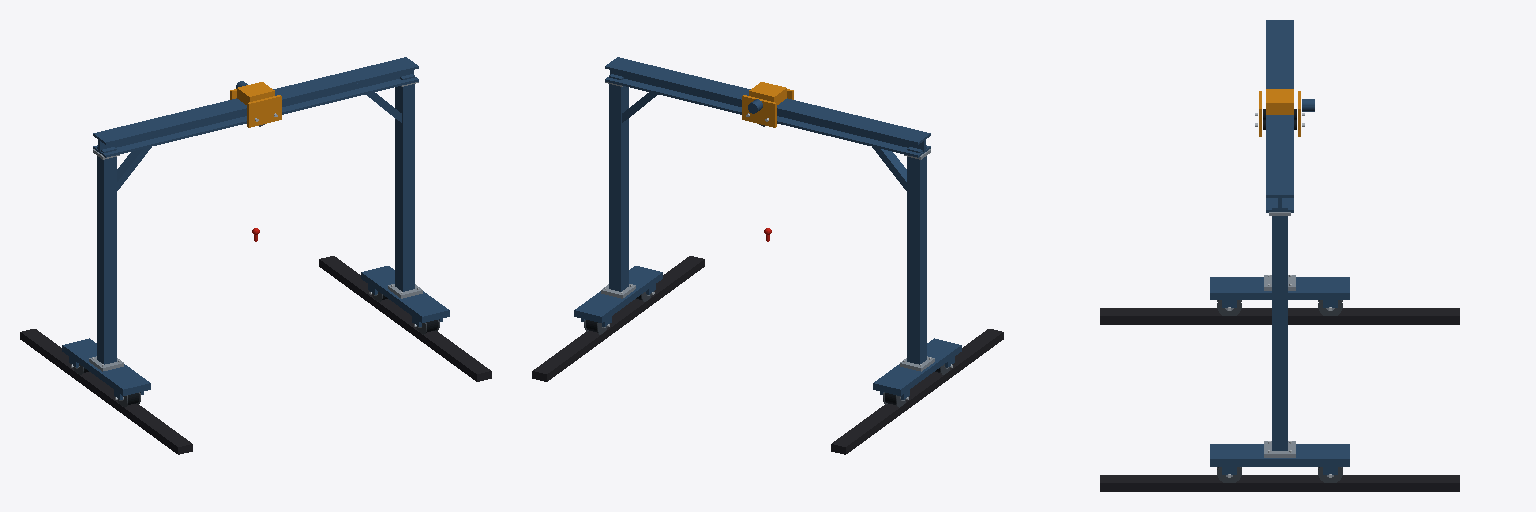
URDF robot description (gantry_crane):
<?xml version="1.0" ?>
<robot name="gantry_crane">
  <!-- Desktop gantry: load at table center [0.55, 0, 0].
       trolley_x=0, gantry_y=0 places the hook over the table origin.
       Girder / cable attachment is at z = 1.32 m.
       Rails extend to cover bogies throughout the gantry travel.
       Hoist prismatic along -Z so positive l lowers the hook. -->

  <material name="steel"><color rgba="0.56 0.60 0.64 1"/></material>
  <material name="wheel_tread"><color rgba="0.12 0.14 0.16 1"/></material>
  <material name="wheel_flange"><color rgba="0.30 0.33 0.36 1"/></material>
  <material name="bolt"><color rgba="0.72 0.75 0.78 1"/></material>

  <link name="base_link">
    <inertial>
      <origin xyz="0 0 0" rpy="0 0 0"/>
      <mass value="0"/>
      <inertia ixx="0.01" ixy="0" ixz="0" iyy="0.01" iyz="0" izz="0.01"/>
    </inertial>
    <visual>
      <origin xyz="-0.82 0 0.02" rpy="0 0 0"/>
      <geometry>
        <box size="0.08 1.50 0.04"/>
      </geometry>
      <material name="rail">
        <color rgba="0.18 0.18 0.20 1"/>
      </material>
    </visual>
    <visual>
      <origin xyz="0.82 0 0.02" rpy="0 0 0"/>
      <geometry>
        <box size="0.08 1.50 0.04"/>
      </geometry>
      <material name="rail">
        <color rgba="0.18 0.18 0.20 1"/>
      </material>
    </visual>
  </link>

  <link name="gantry_link">
    <inertial>
      <origin xyz="0 0 0.85" rpy="0 0 0"/>
      <mass value="8"/>
      <inertia ixx="2.4" ixy="0" ixz="0" iyy="3.1" iyz="0" izz="1.6"/>
    </inertial>
    <visual>
      <origin xyz="-0.82 0 0.7325" rpy="0 0 0"/>
      <geometry>
        <box size="0.07 0.07 1.135"/>
      </geometry>
      <material name="slate">
        <color rgba="0.22 0.34 0.46 1"/>
      </material>
    </visual>
    <collision>
      <origin xyz="-0.82 0 0.7325" rpy="0 0 0"/>
      <geometry>
        <box size="0.07 0.07 1.135"/>
      </geometry>
    </collision>
    <visual>
      <origin xyz="0.82 0 0.7325" rpy="0 0 0"/>
      <geometry>
        <box size="0.07 0.07 1.135"/>
      </geometry>
      <material name="slate">
        <color rgba="0.22 0.34 0.46 1"/>
      </material>
    </visual>
    <collision>
      <origin xyz="0.82 0 0.7325" rpy="0 0 0"/>
      <geometry>
        <box size="0.07 0.07 1.135"/>
      </geometry>
    </collision>
    <visual>
      <origin xyz="0 0 1.354" rpy="0 0 0"/>
      <geometry><box size="1.72 0.12 0.012"/></geometry>
      <material name="slate">
        <color rgba="0.22 0.34 0.46 1"/>
      </material>
    </visual>
    <visual>
      <origin xyz="0 0 1.286" rpy="0 0 0"/>
      <geometry><box size="1.72 0.12 0.012"/></geometry>
      <material name="slate">
        <color rgba="0.22 0.34 0.46 1"/>
      </material>
    </visual>
    <visual>
      <origin xyz="0 0 1.32" rpy="0 0 0"/>
      <geometry><box size="1.72 0.018 0.056"/></geometry>
      <material name="slate">
        <color rgba="0.22 0.34 0.46 1"/>
      </material>
    </visual>
    <collision>
      <origin xyz="0 0 1.32" rpy="0 0 0"/>
      <geometry>
        <box size="1.72 0.10 0.08"/>
      </geometry>
    </collision>
    <!-- Rail bogies: four wheels, axle direction X; tread touches rail at z=0.04.
         Wheel visuals follow gantry_y; rolling is represented by that prismatic joint. -->
    <visual>
      <origin xyz="-0.82 0 0.1475" rpy="0 0 0"/>
      <geometry><box size="0.15 0.58 0.035"/></geometry>
      <material name="slate">
        <color rgba="0.22 0.34 0.46 1"/>
      </material>
    </visual>
    <collision>
      <origin xyz="-0.82 0 0.1475" rpy="0 0 0"/>
      <geometry><box size="0.15 0.58 0.035"/></geometry>
    </collision>
    <visual>
      <origin xyz="-0.82 0 0.174" rpy="0 0 0"/>
      <geometry><box size="0.12 0.13 0.018"/></geometry>
      <material name="steel">
        <color rgba="0.56 0.60 0.64 1"/>
      </material>
    </visual>
    <visual>
      <origin xyz="-0.82 -0.21 0.085" rpy="0 1.57079632679 0"/>
      <geometry><cylinder radius="0.045" length="0.064"/></geometry>
      <material name="wheel_tread">
        <color rgba="0.12 0.14 0.16 1"/>
      </material>
    </visual>
    <collision>
      <origin xyz="-0.82 -0.21 0.085" rpy="0 1.57079632679 0"/>
      <geometry><cylinder radius="0.045" length="0.064"/></geometry>
    </collision>
    <visual>
      <origin xyz="-0.855 -0.21 0.085" rpy="0 1.57079632679 0"/>
      <geometry><cylinder radius="0.052" length="0.006"/></geometry>
      <material name="wheel_flange">
        <color rgba="0.30 0.33 0.36 1"/>
      </material>
    </visual>
    <visual>
      <origin xyz="-0.863 -0.21 0.085" rpy="0 1.57079632679 0"/>
      <geometry><cylinder radius="0.018" length="0.01"/></geometry>
      <material name="steel">
        <color rgba="0.56 0.60 0.64 1"/>
      </material>
    </visual>
    <visual>
      <origin xyz="-0.877 -0.21 0.117" rpy="0 0 0"/>
      <geometry><box size="0.015 0.066 0.058"/></geometry>
      <material name="slate">
        <color rgba="0.22 0.34 0.46 1"/>
      </material>
    </visual>
    <visual>
      <origin xyz="-0.888 -0.21 0.085" rpy="0 1.57079632679 0"/>
      <geometry><cylinder radius="0.008" length="0.008"/></geometry>
      <material name="bolt">
        <color rgba="0.72 0.75 0.78 1"/>
      </material>
    </visual>
    <visual>
      <origin xyz="-0.785 -0.21 0.085" rpy="0 1.57079632679 0"/>
      <geometry><cylinder radius="0.052" length="0.006"/></geometry>
      <material name="wheel_flange">
        <color rgba="0.30 0.33 0.36 1"/>
      </material>
    </visual>
    <visual>
      <origin xyz="-0.777 -0.21 0.085" rpy="0 1.57079632679 0"/>
      <geometry><cylinder radius="0.018" length="0.01"/></geometry>
      <material name="steel">
        <color rgba="0.56 0.60 0.64 1"/>
      </material>
    </visual>
    <visual>
      <origin xyz="-0.763 -0.21 0.117" rpy="0 0 0"/>
      <geometry><box size="0.015 0.066 0.058"/></geometry>
      <material name="slate">
        <color rgba="0.22 0.34 0.46 1"/>
      </material>
    </visual>
    <visual>
      <origin xyz="-0.752 -0.21 0.085" rpy="0 1.57079632679 0"/>
      <geometry><cylinder radius="0.008" length="0.008"/></geometry>
      <material name="bolt">
        <color rgba="0.72 0.75 0.78 1"/>
      </material>
    </visual>
    <visual>
      <origin xyz="-0.82 0.21 0.085" rpy="0 1.57079632679 0"/>
      <geometry><cylinder radius="0.045" length="0.064"/></geometry>
      <material name="wheel_tread">
        <color rgba="0.12 0.14 0.16 1"/>
      </material>
    </visual>
    <collision>
      <origin xyz="-0.82 0.21 0.085" rpy="0 1.57079632679 0"/>
      <geometry><cylinder radius="0.045" length="0.064"/></geometry>
    </collision>
    <visual>
      <origin xyz="-0.855 0.21 0.085" rpy="0 1.57079632679 0"/>
      <geometry><cylinder radius="0.052" length="0.006"/></geometry>
      <material name="wheel_flange">
        <color rgba="0.30 0.33 0.36 1"/>
      </material>
    </visual>
    <visual>
      <origin xyz="-0.863 0.21 0.085" rpy="0 1.57079632679 0"/>
      <geometry><cylinder radius="0.018" length="0.01"/></geometry>
      <material name="steel">
        <color rgba="0.56 0.60 0.64 1"/>
      </material>
    </visual>
    <visual>
      <origin xyz="-0.877 0.21 0.117" rpy="0 0 0"/>
      <geometry><box size="0.015 0.066 0.058"/></geometry>
      <material name="slate">
        <color rgba="0.22 0.34 0.46 1"/>
      </material>
    </visual>
    <visual>
      <origin xyz="-0.888 0.21 0.085" rpy="0 1.57079632679 0"/>
      <geometry><cylinder radius="0.008" length="0.008"/></geometry>
      <material name="bolt">
        <color rgba="0.72 0.75 0.78 1"/>
      </material>
    </visual>
    <visual>
      <origin xyz="-0.785 0.21 0.085" rpy="0 1.57079632679 0"/>
      <geometry><cylinder radius="0.052" length="0.006"/></geometry>
      <material name="wheel_flange">
        <color rgba="0.30 0.33 0.36 1"/>
      </material>
    </visual>
    <visual>
      <origin xyz="-0.777 0.21 0.085" rpy="0 1.57079632679 0"/>
      <geometry><cylinder radius="0.018" length="0.01"/></geometry>
      <material name="steel">
        <color rgba="0.56 0.60 0.64 1"/>
      </material>
    </visual>
    <visual>
      <origin xyz="-0.763 0.21 0.117" rpy="0 0 0"/>
      <geometry><box size="0.015 0.066 0.058"/></geometry>
      <material name="slate">
        <color rgba="0.22 0.34 0.46 1"/>
      </material>
    </visual>
    <visual>
      <origin xyz="-0.752 0.21 0.085" rpy="0 1.57079632679 0"/>
      <geometry><cylinder radius="0.008" length="0.008"/></geometry>
      <material name="bolt">
        <color rgba="0.72 0.75 0.78 1"/>
      </material>
    </visual>
    <visual>
      <origin xyz="-0.865 -0.045 0.186" rpy="0 0 0"/>
      <geometry><cylinder radius="0.006" length="0.006"/></geometry>
      <material name="bolt">
        <color rgba="0.72 0.75 0.78 1"/>
      </material>
    </visual>
    <visual>
      <origin xyz="-0.865 0.045 0.186" rpy="0 0 0"/>
      <geometry><cylinder radius="0.006" length="0.006"/></geometry>
      <material name="bolt">
        <color rgba="0.72 0.75 0.78 1"/>
      </material>
    </visual>
    <visual>
      <origin xyz="-0.775 -0.045 0.186" rpy="0 0 0"/>
      <geometry><cylinder radius="0.006" length="0.006"/></geometry>
      <material name="bolt">
        <color rgba="0.72 0.75 0.78 1"/>
      </material>
    </visual>
    <visual>
      <origin xyz="-0.775 0.045 0.186" rpy="0 0 0"/>
      <geometry><cylinder radius="0.006" length="0.006"/></geometry>
      <material name="bolt">
        <color rgba="0.72 0.75 0.78 1"/>
      </material>
    </visual>
    <visual>
      <origin xyz="-0.710 0 1.165" rpy="0 0.78539816339 0"/>
      <geometry><box size="0.035 0.06 0.31"/></geometry>
      <material name="slate">
        <color rgba="0.22 0.34 0.46 1"/>
      </material>
    </visual>
    <visual>
      <origin xyz="-0.82 0 1.274" rpy="0 0 0"/>
      <geometry><box size="0.095 0.095 0.016"/></geometry>
      <material name="steel">
        <color rgba="0.56 0.60 0.64 1"/>
      </material>
    </visual>
    <visual>
      <origin xyz="0.82 0 0.1475" rpy="0 0 0"/>
      <geometry><box size="0.15 0.58 0.035"/></geometry>
      <material name="slate">
        <color rgba="0.22 0.34 0.46 1"/>
      </material>
    </visual>
    <collision>
      <origin xyz="0.82 0 0.1475" rpy="0 0 0"/>
      <geometry><box size="0.15 0.58 0.035"/></geometry>
    </collision>
    <visual>
      <origin xyz="0.82 0 0.174" rpy="0 0 0"/>
      <geometry><box size="0.12 0.13 0.018"/></geometry>
      <material name="steel">
        <color rgba="0.56 0.60 0.64 1"/>
      </material>
    </visual>
    <visual>
      <origin xyz="0.82 -0.21 0.085" rpy="0 1.57079632679 0"/>
      <geometry><cylinder radius="0.045" length="0.064"/></geometry>
      <material name="wheel_tread">
        <color rgba="0.12 0.14 0.16 1"/>
      </material>
    </visual>
    <collision>
      <origin xyz="0.82 -0.21 0.085" rpy="0 1.57079632679 0"/>
      <geometry><cylinder radius="0.045" length="0.064"/></geometry>
    </collision>
    <visual>
      <origin xyz="0.785 -0.21 0.085" rpy="0 1.57079632679 0"/>
      <geometry><cylinder radius="0.052" length="0.006"/></geometry>
      <material name="wheel_flange">
        <color rgba="0.30 0.33 0.36 1"/>
      </material>
    </visual>
    <visual>
      <origin xyz="0.777 -0.21 0.085" rpy="0 1.57079632679 0"/>
      <geometry><cylinder radius="0.018" length="0.01"/></geometry>
      <material name="steel">
        <color rgba="0.56 0.60 0.64 1"/>
      </material>
    </visual>
    <visual>
      <origin xyz="0.763 -0.21 0.117" rpy="0 0 0"/>
      <geometry><box size="0.015 0.066 0.058"/></geometry>
      <material name="slate">
        <color rgba="0.22 0.34 0.46 1"/>
      </material>
    </visual>
    <visual>
      <origin xyz="0.752 -0.21 0.085" rpy="0 1.57079632679 0"/>
      <geometry><cylinder radius="0.008" length="0.008"/></geometry>
      <material name="bolt">
        <color rgba="0.72 0.75 0.78 1"/>
      </material>
    </visual>
    <visual>
      <origin xyz="0.855 -0.21 0.085" rpy="0 1.57079632679 0"/>
      <geometry><cylinder radius="0.052" length="0.006"/></geometry>
      <material name="wheel_flange">
        <color rgba="0.30 0.33 0.36 1"/>
      </material>
    </visual>
    <visual>
      <origin xyz="0.863 -0.21 0.085" rpy="0 1.57079632679 0"/>
      <geometry><cylinder radius="0.018" length="0.01"/></geometry>
      <material name="steel">
        <color rgba="0.56 0.60 0.64 1"/>
      </material>
    </visual>
    <visual>
      <origin xyz="0.877 -0.21 0.117" rpy="0 0 0"/>
      <geometry><box size="0.015 0.066 0.058"/></geometry>
      <material name="slate">
        <color rgba="0.22 0.34 0.46 1"/>
      </material>
    </visual>
    <visual>
      <origin xyz="0.888 -0.21 0.085" rpy="0 1.57079632679 0"/>
      <geometry><cylinder radius="0.008" length="0.008"/></geometry>
      <material name="bolt">
        <color rgba="0.72 0.75 0.78 1"/>
      </material>
    </visual>
    <visual>
      <origin xyz="0.82 0.21 0.085" rpy="0 1.57079632679 0"/>
      <geometry><cylinder radius="0.045" length="0.064"/></geometry>
      <material name="wheel_tread">
        <color rgba="0.12 0.14 0.16 1"/>
      </material>
    </visual>
    <collision>
      <origin xyz="0.82 0.21 0.085" rpy="0 1.57079632679 0"/>
      <geometry><cylinder radius="0.045" length="0.064"/></geometry>
    </collision>
    <visual>
      <origin xyz="0.785 0.21 0.085" rpy="0 1.57079632679 0"/>
      <geometry><cylinder radius="0.052" length="0.006"/></geometry>
      <material name="wheel_flange">
        <color rgba="0.30 0.33 0.36 1"/>
      </material>
    </visual>
    <visual>
      <origin xyz="0.777 0.21 0.085" rpy="0 1.57079632679 0"/>
      <geometry><cylinder radius="0.018" length="0.01"/></geometry>
      <material name="steel">
        <color rgba="0.56 0.60 0.64 1"/>
      </material>
    </visual>
    <visual>
      <origin xyz="0.763 0.21 0.117" rpy="0 0 0"/>
      <geometry><box size="0.015 0.066 0.058"/></geometry>
      <material name="slate">
        <color rgba="0.22 0.34 0.46 1"/>
      </material>
    </visual>
    <visual>
      <origin xyz="0.752 0.21 0.085" rpy="0 1.57079632679 0"/>
      <geometry><cylinder radius="0.008" length="0.008"/></geometry>
      <material name="bolt">
        <color rgba="0.72 0.75 0.78 1"/>
      </material>
    </visual>
    <visual>
      <origin xyz="0.855 0.21 0.085" rpy="0 1.57079632679 0"/>
      <geometry><cylinder radius="0.052" length="0.006"/></geometry>
      <material name="wheel_flange">
        <color rgba="0.30 0.33 0.36 1"/>
      </material>
    </visual>
    <visual>
      <origin xyz="0.863 0.21 0.085" rpy="0 1.57079632679 0"/>
      <geometry><cylinder radius="0.018" length="0.01"/></geometry>
      <material name="steel">
        <color rgba="0.56 0.60 0.64 1"/>
      </material>
    </visual>
    <visual>
      <origin xyz="0.877 0.21 0.117" rpy="0 0 0"/>
      <geometry><box size="0.015 0.066 0.058"/></geometry>
      <material name="slate">
        <color rgba="0.22 0.34 0.46 1"/>
      </material>
    </visual>
    <visual>
      <origin xyz="0.888 0.21 0.085" rpy="0 1.57079632679 0"/>
      <geometry><cylinder radius="0.008" length="0.008"/></geometry>
      <material name="bolt">
        <color rgba="0.72 0.75 0.78 1"/>
      </material>
    </visual>
    <visual>
      <origin xyz="0.775 -0.045 0.186" rpy="0 0 0"/>
      <geometry><cylinder radius="0.006" length="0.006"/></geometry>
      <material name="bolt">
        <color rgba="0.72 0.75 0.78 1"/>
      </material>
    </visual>
    <visual>
      <origin xyz="0.775 0.045 0.186" rpy="0 0 0"/>
      <geometry><cylinder radius="0.006" length="0.006"/></geometry>
      <material name="bolt">
        <color rgba="0.72 0.75 0.78 1"/>
      </material>
    </visual>
    <visual>
      <origin xyz="0.865 -0.045 0.186" rpy="0 0 0"/>
      <geometry><cylinder radius="0.006" length="0.006"/></geometry>
      <material name="bolt">
        <color rgba="0.72 0.75 0.78 1"/>
      </material>
    </visual>
    <visual>
      <origin xyz="0.865 0.045 0.186" rpy="0 0 0"/>
      <geometry><cylinder radius="0.006" length="0.006"/></geometry>
      <material name="bolt">
        <color rgba="0.72 0.75 0.78 1"/>
      </material>
    </visual>
    <visual>
      <origin xyz="0.710 0 1.165" rpy="0 -0.78539816339 0"/>
      <geometry><box size="0.035 0.06 0.31"/></geometry>
      <material name="slate">
        <color rgba="0.22 0.34 0.46 1"/>
      </material>
    </visual>
    <visual>
      <origin xyz="0.82 0 1.274" rpy="0 0 0"/>
      <geometry><box size="0.095 0.095 0.016"/></geometry>
      <material name="steel">
        <color rgba="0.56 0.60 0.64 1"/>
      </material>
    </visual>
  </link>

  <joint name="gantry_y" type="prismatic">
    <parent link="base_link"/>
    <child link="gantry_link"/>
    <origin xyz="0 0 0" rpy="0 0 0"/>
    <axis xyz="0 1 0"/>
    <limit lower="-0.45" upper="0.45" effort="200" velocity="1.0"/>
    <dynamics damping="4.0" friction="0.0"/>
  </joint>

  <link name="trolley_link">
    <inertial>
      <origin xyz="0 0 0.05" rpy="0 0 0"/>
      <mass value="0.4"/>
      <inertia ixx="5e-4" ixy="0" ixz="0" iyy="6e-4" iyz="0" izz="8e-4"/>
    </inertial>
    <visual>
      <origin xyz="0 0 0.06" rpy="0 0 0"/>
      <geometry>
        <box size="0.14 0.12 0.07"/>
      </geometry>
      <material name="amber">
        <color rgba="0.85 0.55 0.12 1"/>
      </material>
    </visual>
    <collision>
      <origin xyz="0 0 0.06" rpy="0 0 0"/>
      <geometry>
        <box size="0.14 0.12 0.07"/>
      </geometry>
    </collision>
    <visual>
      <origin xyz="0 0 -0.02" rpy="0 0 0"/>
      <geometry>
        <cylinder radius="0.02" length="0.04"/>
      </geometry>
      <material name="sheave">
        <color rgba="0.35 0.35 0.38 1"/>
      </material>
    </visual>
    <!-- Trolley roller assemblies and transverse hoist drum. -->
    <visual>
      <origin xyz="0 -0.081 0.012" rpy="0 0 0"/>
      <geometry><box size="0.18 0.016 0.125"/></geometry>
      <material name="amber">
        <color rgba="0.85 0.55 0.12 1"/>
      </material>
    </visual>
    <visual>
      <origin xyz="-0.052 -0.0599 -0.015" rpy="1.57079632679 0 0"/>
      <geometry><cylinder radius="0.022" length="0.023"/></geometry>
      <material name="wheel_tread">
        <color rgba="0.12 0.14 0.16 1"/>
      </material>
    </visual>
    <visual>
      <origin xyz="-0.052 -0.0972 -0.015" rpy="1.57079632679 0 0"/>
      <geometry><cylinder radius="0.008" length="0.012"/></geometry>
      <material name="bolt">
        <color rgba="0.72 0.75 0.78 1"/>
      </material>
    </visual>
    <visual>
      <origin xyz="0.052 -0.0599 -0.015" rpy="1.57079632679 0 0"/>
      <geometry><cylinder radius="0.022" length="0.023"/></geometry>
      <material name="wheel_tread">
        <color rgba="0.12 0.14 0.16 1"/>
      </material>
    </visual>
    <visual>
      <origin xyz="0.052 -0.0972 -0.015" rpy="1.57079632679 0 0"/>
      <geometry><cylinder radius="0.008" length="0.012"/></geometry>
      <material name="bolt">
        <color rgba="0.72 0.75 0.78 1"/>
      </material>
    </visual>
    <visual>
      <origin xyz="0 0.081 0.012" rpy="0 0 0"/>
      <geometry><box size="0.18 0.016 0.125"/></geometry>
      <material name="amber">
        <color rgba="0.85 0.55 0.12 1"/>
      </material>
    </visual>
    <visual>
      <origin xyz="-0.052 0.0599 -0.015" rpy="1.57079632679 0 0"/>
      <geometry><cylinder radius="0.022" length="0.023"/></geometry>
      <material name="wheel_tread">
        <color rgba="0.12 0.14 0.16 1"/>
      </material>
    </visual>
    <visual>
      <origin xyz="-0.052 0.0972 -0.015" rpy="1.57079632679 0 0"/>
      <geometry><cylinder radius="0.008" length="0.012"/></geometry>
      <material name="bolt">
        <color rgba="0.72 0.75 0.78 1"/>
      </material>
    </visual>
    <visual>
      <origin xyz="0.052 0.0599 -0.015" rpy="1.57079632679 0 0"/>
      <geometry><cylinder radius="0.022" length="0.023"/></geometry>
      <material name="wheel_tread">
        <color rgba="0.12 0.14 0.16 1"/>
      </material>
    </visual>
    <visual>
      <origin xyz="0.052 0.0972 -0.015" rpy="1.57079632679 0 0"/>
      <geometry><cylinder radius="0.008" length="0.012"/></geometry>
      <material name="bolt">
        <color rgba="0.72 0.75 0.78 1"/>
      </material>
    </visual>
    <visual>
      <origin xyz="0 0 -0.045" rpy="1.57079632679 0 0"/>
      <geometry><cylinder radius="0.026" length="0.085"/></geometry>
      <material name="steel">
        <color rgba="0.56 0.60 0.64 1"/>
      </material>
    </visual>
    <visual>
      <origin xyz="0 -0.047 -0.045" rpy="1.57079632679 0 0"/>
      <geometry><cylinder radius="0.034" length="0.008"/></geometry>
      <material name="wheel_flange">
        <color rgba="0.30 0.33 0.36 1"/>
      </material>
    </visual>
    <visual>
      <origin xyz="0 0.047 -0.045" rpy="1.57079632679 0 0"/>
      <geometry><cylinder radius="0.034" length="0.008"/></geometry>
      <material name="wheel_flange">
        <color rgba="0.30 0.33 0.36 1"/>
      </material>
    </visual>
    <visual>
      <origin xyz="0 0.119 0.053" rpy="1.57079632679 0 0"/>
      <geometry><cylinder radius="0.027" length="0.052"/></geometry>
      <material name="slate">
        <color rgba="0.22 0.34 0.46 1"/>
      </material>
    </visual>
  </link>

  <joint name="trolley_x" type="prismatic">
    <parent link="gantry_link"/>
    <child link="trolley_link"/>
    <origin xyz="0 0 1.32" rpy="0 0 0"/>
    <axis xyz="1 0 0"/>
    <limit lower="-0.40" upper="0.40" effort="200" velocity="1.0"/>
    <dynamics damping="4.0" friction="0.0"/>
  </joint>

  <link name="sway_x_link">
    <inertial>
      <origin xyz="0 0 0" rpy="0 0 0"/>
      <mass value="0.02"/>
      <inertia ixx="1e-5" ixy="0" ixz="0" iyy="1e-5" iyz="0" izz="1e-5"/>
    </inertial>
  </link>

  <joint name="sway_x" type="revolute">
    <parent link="trolley_link"/>
    <child link="sway_x_link"/>
    <origin xyz="0 0 0" rpy="0 0 0"/>
    <axis xyz="1 0 0"/>
    <limit lower="-1.4" upper="1.4" effort="20" velocity="10"/>
    <dynamics damping="0.0" friction="0.0"/>
  </joint>

  <link name="sway_y_link">
    <inertial>
      <origin xyz="0 0 0" rpy="0 0 0"/>
      <mass value="0.02"/>
      <inertia ixx="1e-5" ixy="0" ixz="0" iyy="1e-5" iyz="0" izz="1e-5"/>
    </inertial>
  </link>

  <joint name="sway_y" type="revolute">
    <parent link="sway_x_link"/>
    <child link="sway_y_link"/>
    <origin xyz="0 0 0" rpy="0 0 0"/>
    <axis xyz="0 1 0"/>
    <limit lower="-1.4" upper="1.4" effort="20" velocity="10"/>
    <dynamics damping="0.0" friction="0.0"/>
  </joint>

  <link name="hook_link">
    <inertial>
      <origin xyz="0 0 -0.03" rpy="0 0 0"/>
      <mass value="0.08"/>
      <inertia ixx="4e-5" ixy="0" ixz="0" iyy="4e-5" iyz="0" izz="2e-5"/>
    </inertial>
    <visual>
      <origin xyz="0 0 0" rpy="0 0 0"/>
      <geometry>
        <sphere radius="0.018"/>
      </geometry>
      <material name="hook">
        <color rgba="0.78 0.16 0.12 1"/>
      </material>
    </visual>
    <visual>
      <origin xyz="0 0 -0.03" rpy="0 0 0"/>
      <geometry>
        <cylinder radius="0.008" length="0.04"/>
      </geometry>
      <material name="hook">
        <color rgba="0.78 0.16 0.12 1"/>
      </material>
    </visual>
  </link>

  <joint name="hoist" type="prismatic">
    <parent link="sway_y_link"/>
    <child link="hook_link"/>
    <origin xyz="0 0 0" rpy="0 0 0"/>
    <axis xyz="0 0 -1"/>
    <limit lower="0.05" upper="1.25" effort="80" velocity="0.8"/>
    <dynamics damping="1.0" friction="0.0"/>
  </joint>
</robot>

--- What the picture shows (computed from the rendered views, not written in the file) ---
The picture shows the robot from 3 angles, left to right: view 1: azimuth 30°, elevation 25°; view 2: azimuth 150°, elevation 25°; view 3: azimuth 270°, elevation 25°; orthographic projection.
Robot: gantry_crane — 6 links, 5 joints (2 revolute, 3 prismatic); root link base_link; default pose: all joints at 0 but 1 set to mid-range because 0 is outside their limits (hoist = 0.65).
Links seen in each view (by area): view 1: gantry_link, base_link, trolley_link; view 2: gantry_link, base_link, trolley_link; view 3: gantry_link, base_link, trolley_link.
Link boxes in pixels (bbox=[...]): gantry_link: bbox=[62, 57, 449, 407]; base_link: bbox=[20, 256, 491, 454]; trolley_link: bbox=[230, 81, 281, 127]; gantry_link: bbox=[574, 57, 961, 407]; base_link: bbox=[532, 256, 1003, 454]; trolley_link: bbox=[742, 82, 793, 127]; gantry_link: bbox=[1210, 20, 1349, 482]; base_link: bbox=[1100, 308, 1459, 491]; trolley_link: bbox=[1255, 89, 1314, 136].
Size in the robot's own frame: 1.79 by 1.5 by 1.42 metres.
Geometry: primitives only (box / cylinder / sphere), no mesh files.
